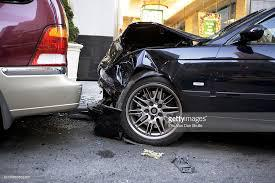bonnet-dent: (102, 20, 200, 49)
fender-dent: (113, 50, 194, 85)
